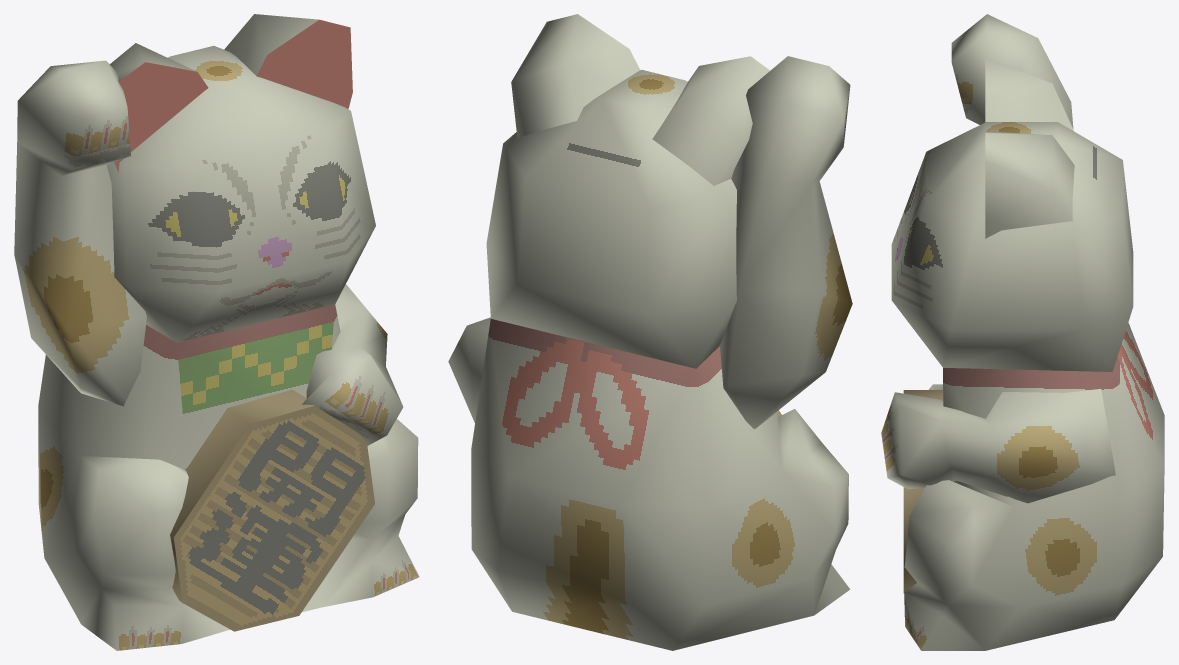
The model's file is 0518_Lucky_Cat.glb.
3 views of the same model, side by side, from view 1: azimuth 30°, elevation 25°; view 2: azimuth 150°, elevation 25°; view 3: azimuth 270°, elevation 25° (orthographic). The views are drawn at different scales.
Visible parts, largest first — view 1: part_0; view 2: part_0; view 3: part_0.
Part boxes in pixels (x1=…): part_0: x1=14, y1=14, x2=419, y2=650; part_0: x1=448, y1=14, x2=852, y2=650; part_0: x1=881, y1=14, x2=1164, y2=650.
Size of the model in its own units: 0.2821 by 0.41 by 0.2114.
1 material, 1 textured.
